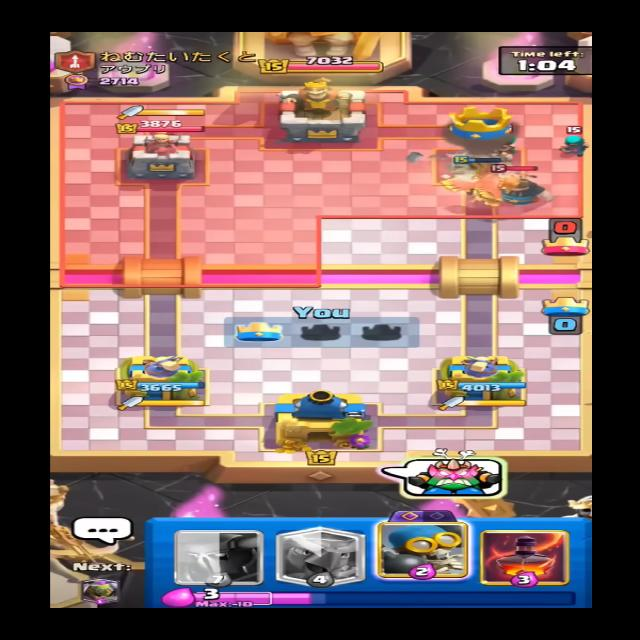rascal-boy: (484, 171, 562, 209)
rascal-girl: (557, 125, 588, 157), (496, 123, 527, 151)
